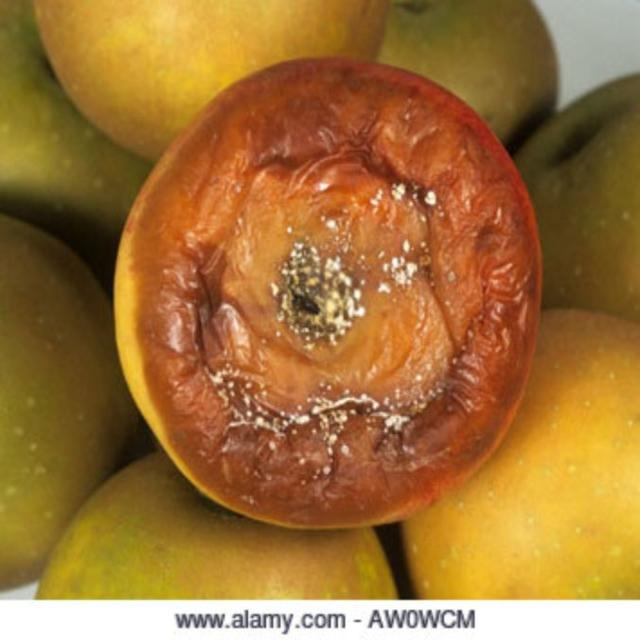Rotten Apple: (82, 36, 568, 528)
